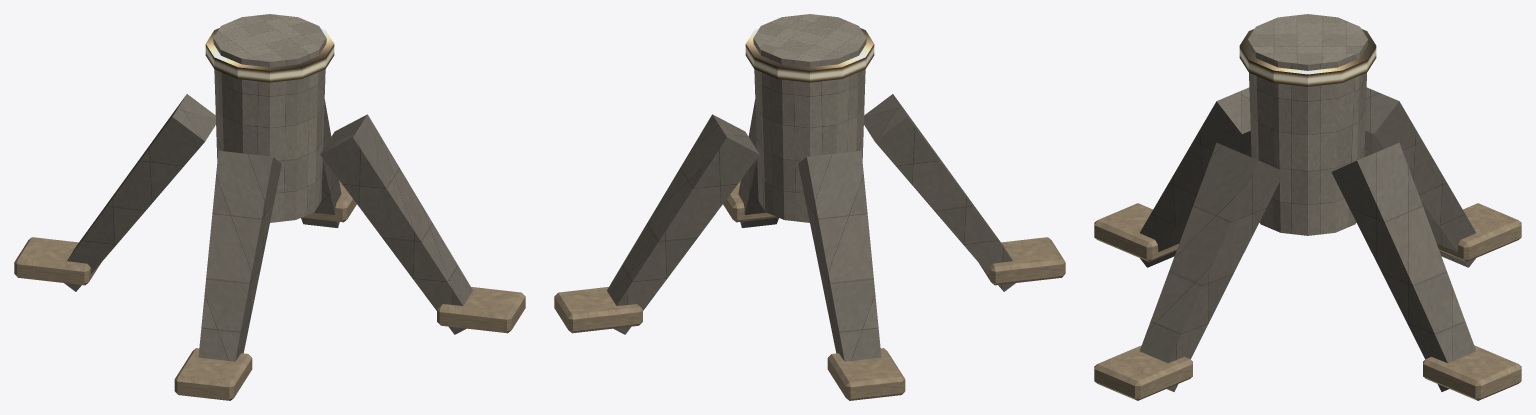
File: dep_avturret_base.obj
3 renders of one model, left to right at view 1: azimuth 30°, elevation 25°; view 2: azimuth 150°, elevation 25°; view 3: azimuth 270°, elevation 25°, orthographic. The views are drawn at different scales.
Visible parts, largest first — view 1: dep_avturret_base; view 2: dep_avturret_base; view 3: dep_avturret_base.
Part boxes in pixels (bbox=[...]): dep_avturret_base: bbox=[14, 14, 525, 400]; dep_avturret_base: bbox=[554, 14, 1065, 400]; dep_avturret_base: bbox=[1094, 14, 1521, 400].
Bounding box in the file's own units: 1.56 × 1.15 × 1.56.
Materials: 1 (1 with a texture image).
